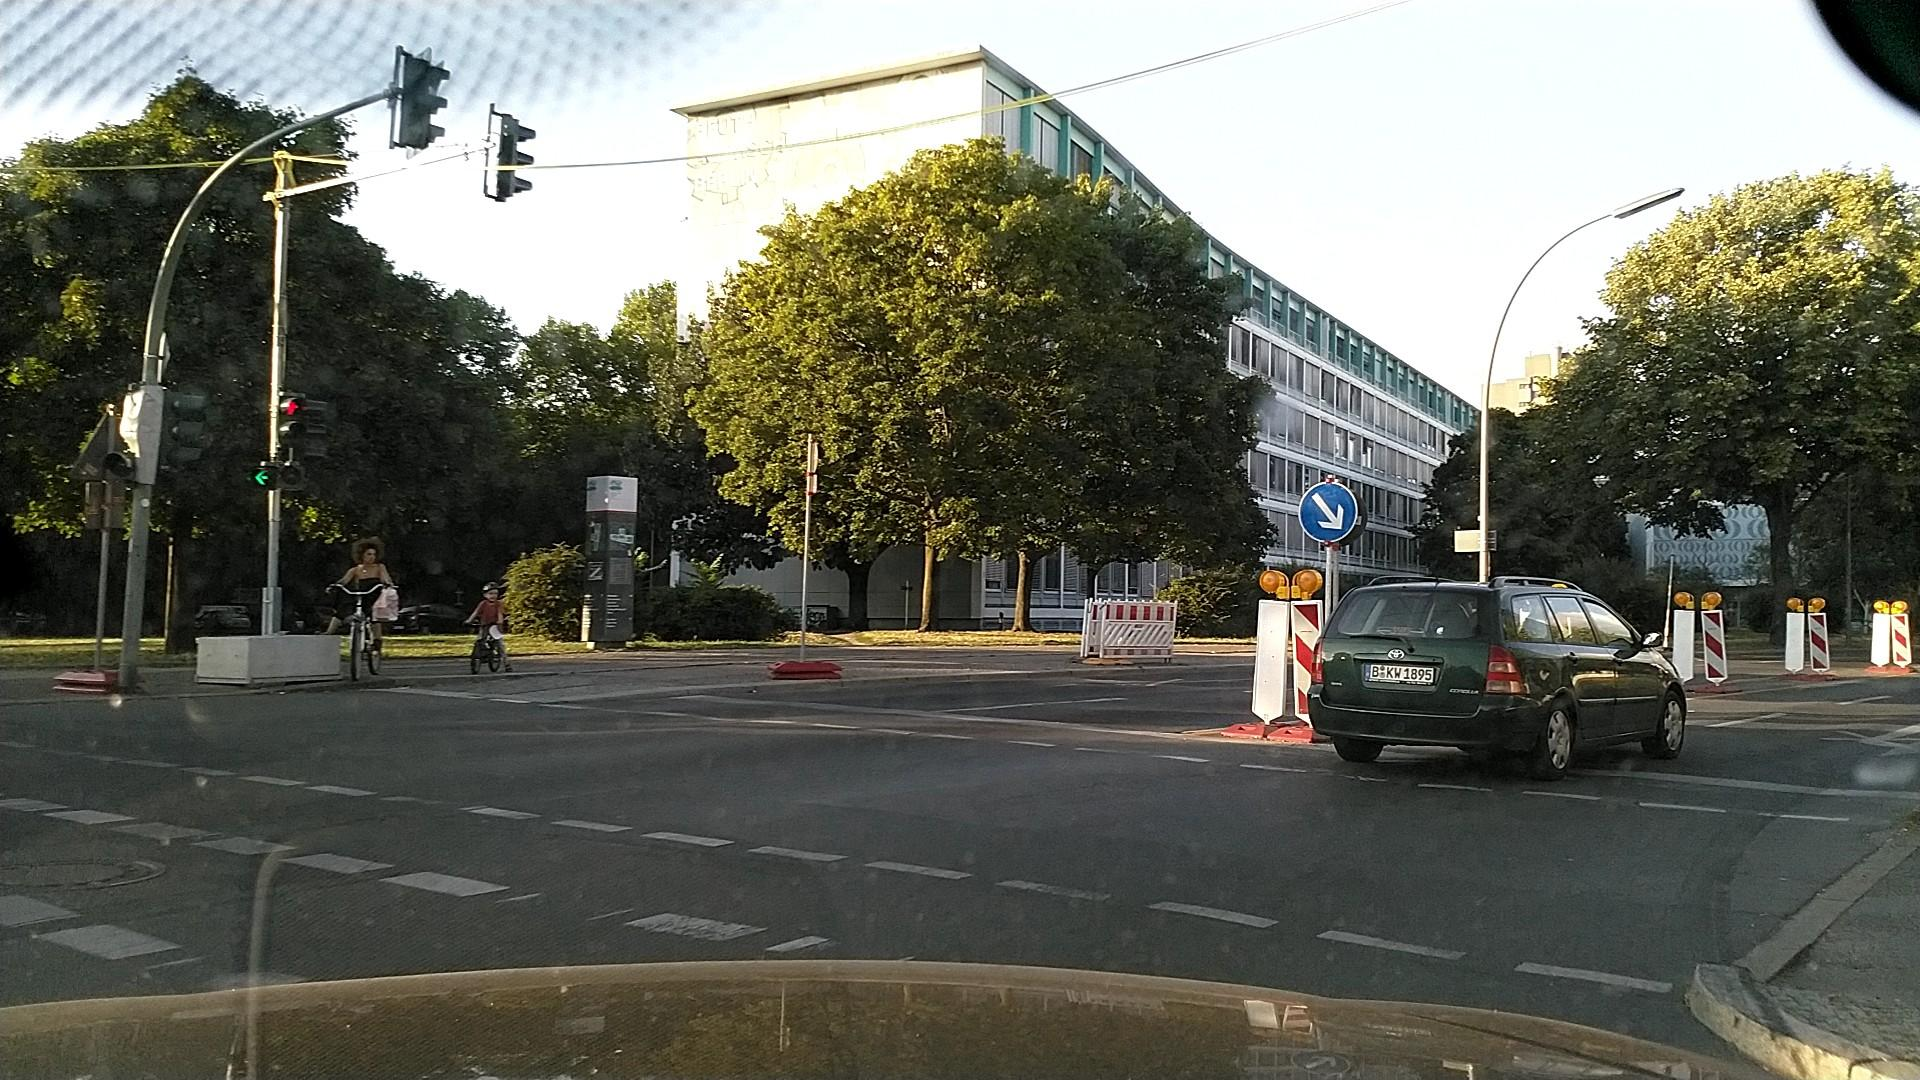Human face: (361, 544, 378, 565), (483, 587, 499, 603)
Vehicle registration plate: (1363, 662, 1435, 686)
